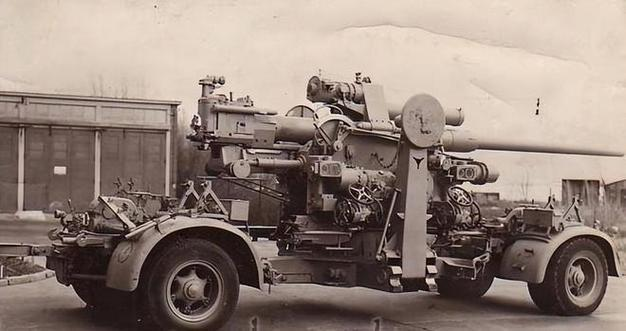MIL_SPG: (48, 76, 622, 328)
